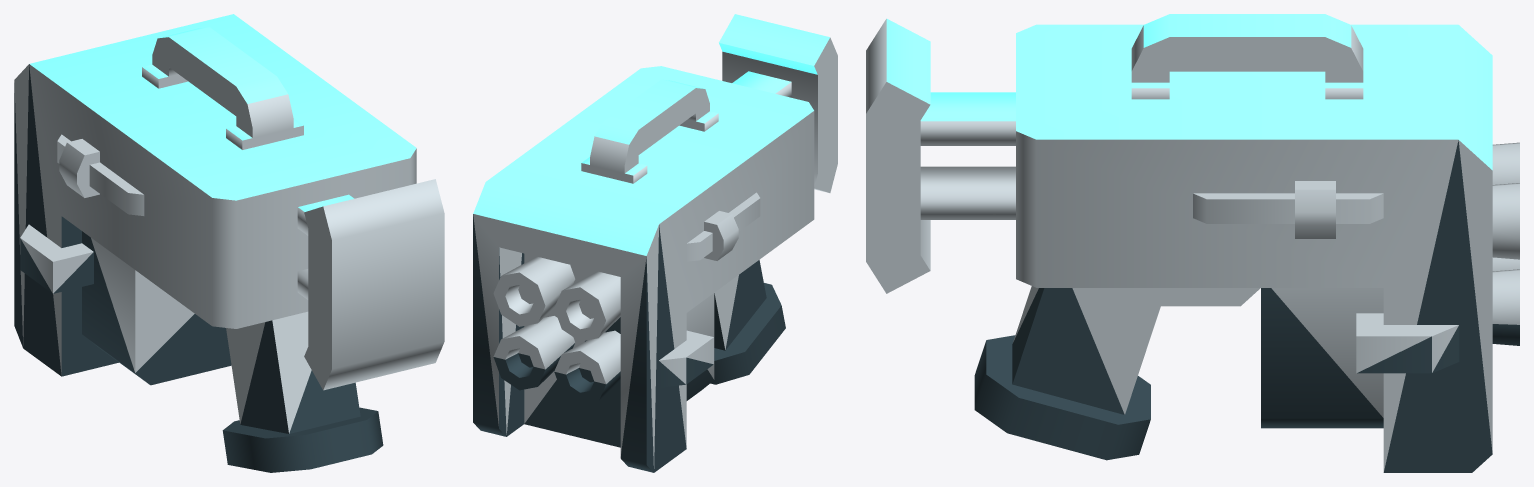
The model's file is cryo-polar-v1.glb.
3 renders of one model, left to right at view 1: azimuth 30°, elevation 25°; view 2: azimuth 150°, elevation 25°; view 3: azimuth 270°, elevation 25°, orthographic. The views are drawn at different scales.
Visible parts, largest first — view 1: cryo_Polar_Body; view 2: cryo_Polar_Body; view 3: cryo_Polar_Body.
Boxes of the visible parts, x1,y1,x2,y2 form: cryo_Polar_Body: [14, 14, 444, 472]; cryo_Polar_Body: [473, 14, 837, 472]; cryo_Polar_Body: [866, 14, 1519, 472].
Size of the model in its own units: 0.245 by 0.3338 by 0.48.
